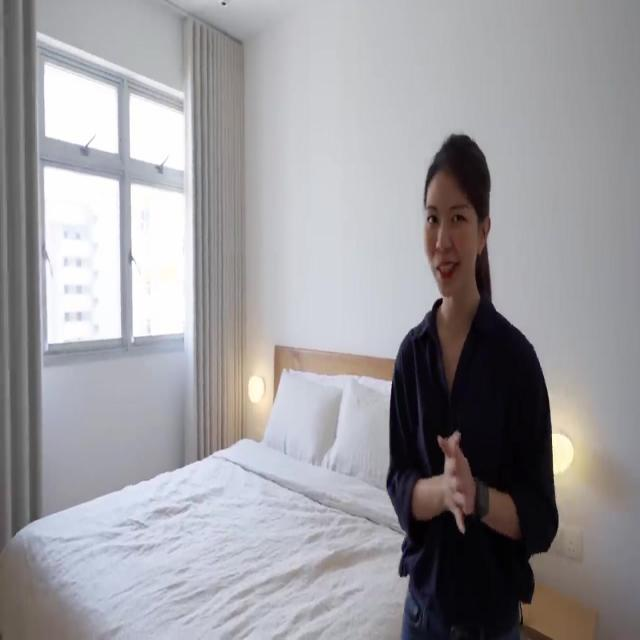obstacle: (1, 344, 595, 638)
person: (386, 132, 558, 640)
